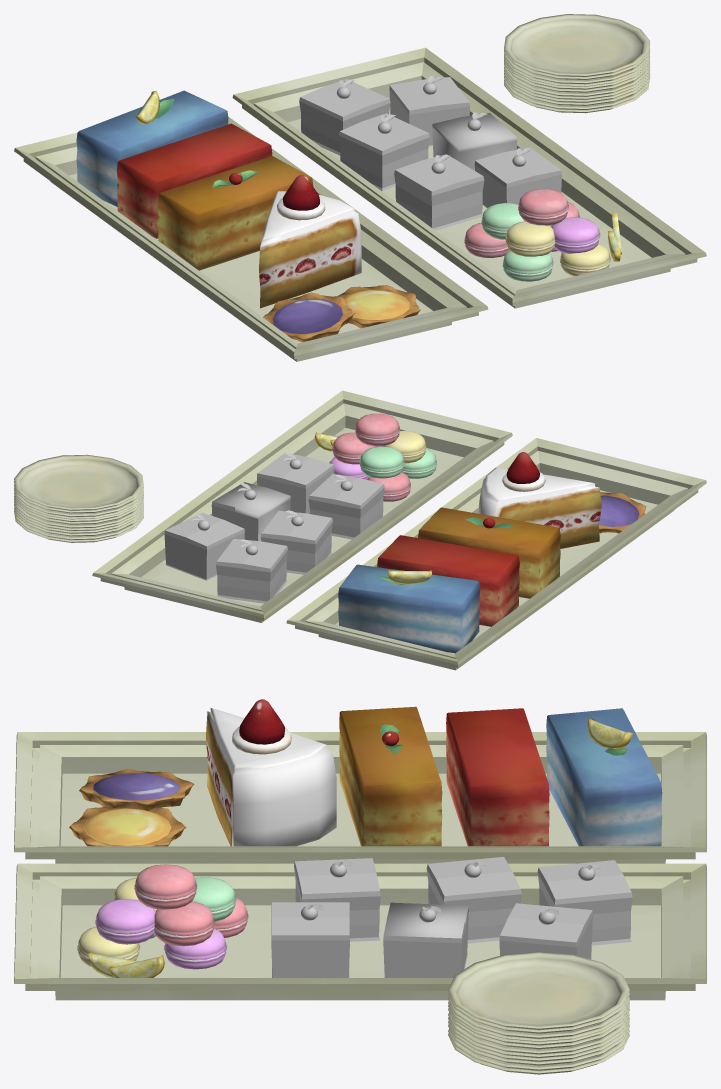
File: TeaSetTest.fbx
The picture shows the model from 3 angles, top to bottom: view 1: azimuth 30°, elevation 25°; view 2: azimuth 150°, elevation 25°; view 3: azimuth 270°, elevation 25°; orthographic projection. The views are drawn at different scales.
Parts seen in each view (by area): view 1: LongPlate, LongPlate.001, PlateStack, Cake_Pound, Cake_SpecialStrawberry, Cake_BlueVanilla, Cake_RedVelvet, CakeBite_HalfEaten_Pink, CakeBite_HalfEaten_Yellow, CakeBite_HalfEaten_Purple, CakeBite_Yellow, CakeBite_Pink (+10 smaller); view 2: LongPlate, LongPlate.001, PlateStack, Cake_BlueVanilla, Cake_SpecialStrawberry, Cake_Pound, Cake_RedVelvet, CakeBite_HalfEaten_Purple, CakeBite_HalfEaten_Pink, CakeBite_Pink, CakeBite_HalfEaten_Yellow, CakeBite_Purple (+9 smaller); view 3: LongPlate, LongPlate.001, PlateStack, Cake_SpecialStrawberry, Cake_BlueVanilla, Cake_Pound, Cake_RedVelvet, CakeBite_Purple, CakeBite_Yellow, CakeBite_HalfEaten_Yellow, CakeBite_HalfEaten_Purple, CakeBite_HalfEaten_Pink (+12 smaller).
Boxes of the visible parts, x1,y1,x2,y2 form: LongPlate: (232,47,706,308); LongPlate.001: (14,116,488,361); PlateStack: (504,14,650,113); Cake_Pound: (157,156,313,270); Cake_SpecialStrawberry: (259,175,361,308); Cake_BlueVanilla: (76,90,228,206); Cake_RedVelvet: (116,123,272,238); CakeBite_HalfEaten_Pink: (394,154,484,230); CakeBite_HalfEaten_Yellow: (338,113,429,191); CakeBite_HalfEaten_Purple: (299,79,390,155); CakeBite_Yellow: (474,147,561,207); CakeBite_Pink: (389,76,469,146); LongPlate: (92,390,512,622); LongPlate.001: (286,438,706,670); PlateStack: (14,454,143,542); Cake_BlueVanilla: (338,564,480,653); Cake_SpecialStrawberry: (478,452,601,548); Cake_Pound: (418,507,560,598); Cake_RedVelvet: (377,535,519,626); CakeBite_HalfEaten_Purple: (216,539,287,603); CakeBite_HalfEaten_Pink: (308,474,384,539); CakeBite_Pink: (164,513,244,580); CakeBite_HalfEaten_Yellow: (260,510,332,574); CakeBite_Purple: (211,482,290,541); LongPlate: (14,863,706,1000); LongPlate.001: (14,732,706,863); PlateStack: (448,951,629,1074); Cake_SpecialStrawberry: (206,699,336,846); Cake_BlueVanilla: (546,708,662,846); Cake_Pound: (339,706,442,846); Cake_RedVelvet: (446,708,549,846); CakeBite_Purple: (383,902,468,977); CakeBite_Yellow: (271,902,349,977); CakeBite_HalfEaten_Yellow: (426,857,521,943); CakeBite_HalfEaten_Purple: (537,860,632,945); CakeBite_HalfEaten_Pink: (294,858,380,941).
Size of the model in its own units: 2035 by 365 by 1772.
